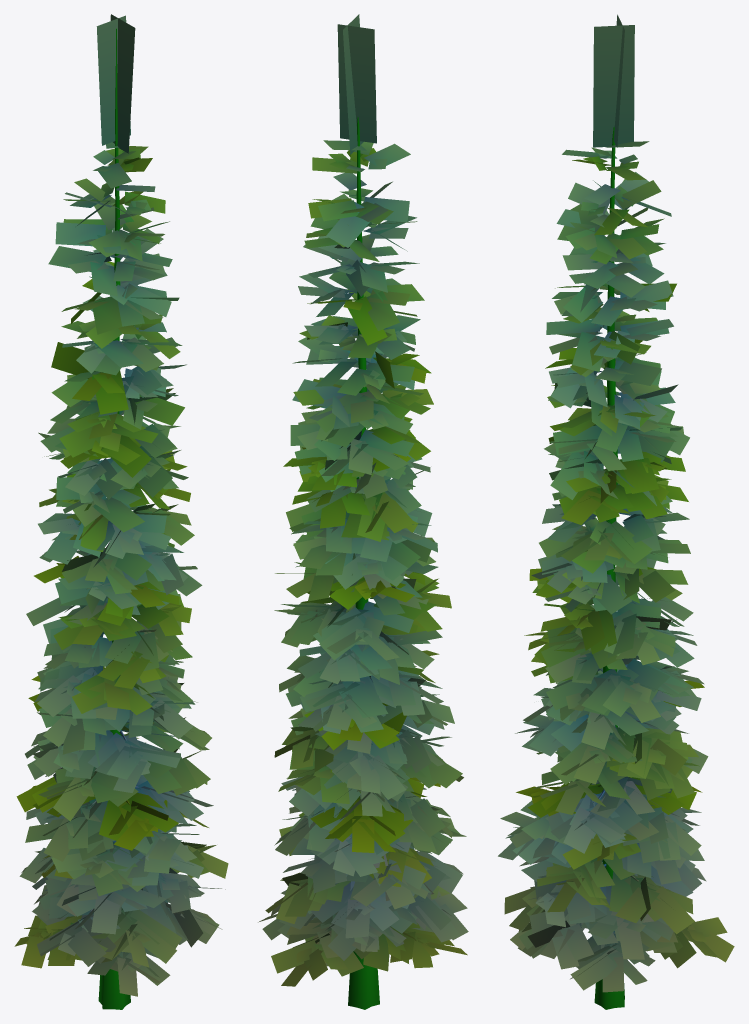
Rendered from fir_b.glb.
The picture shows the model from 3 angles, left to right: view 1: azimuth 30°, elevation 25°; view 2: azimuth 150°, elevation 25°; view 3: azimuth 270°, elevation 25°; orthographic projection.
Parts seen in each view (by area): view 1: LOD0; view 2: LOD0; view 3: LOD0.
Boxes of the visible parts, <box> form: LOD0: <box>14,14,228,1009</box>; LOD0: <box>258,14,468,1009</box>; LOD0: <box>498,14,734,1009</box>.
Size of what is drawn, in the model's own units: 3.07 by 14.49 by 3.17.
